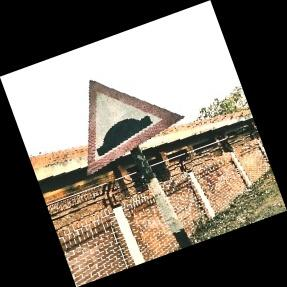Speed-breaker: (85, 76, 184, 173)
